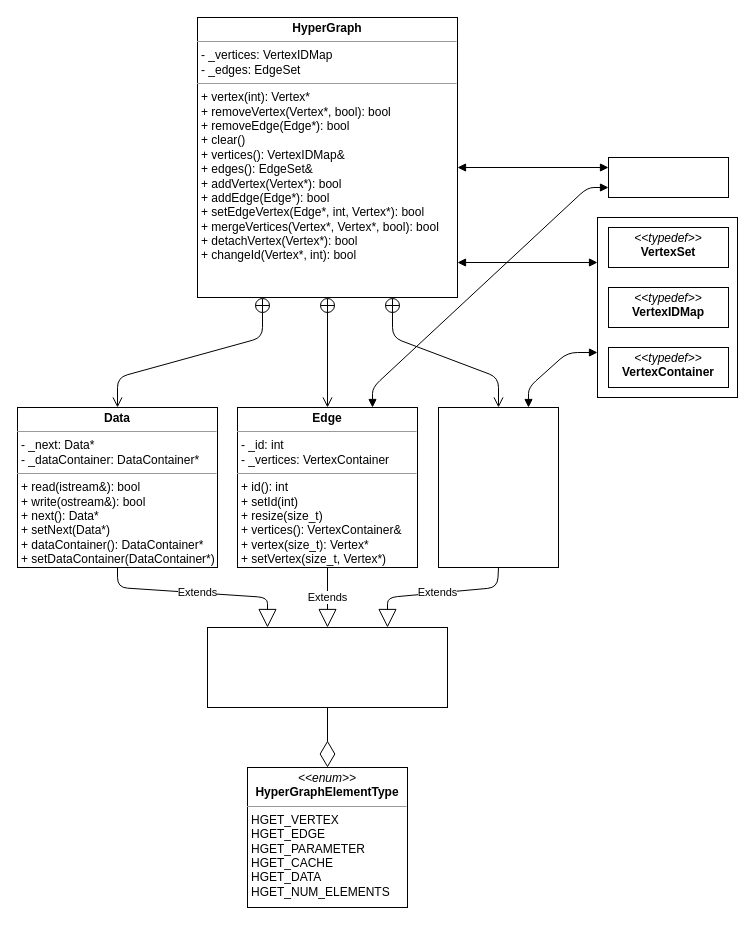
The diagram is 755 pixels wide and 925 high, and some of its shapes have lost their labels. Here are the shapes that lost their labels. From the top down, the centre of each, then its label:
the point at 668,177: <<typedef>> EdgeSet
the point at 498,487: Vertex - _id: int - _edges: EdgeSet + id(): int + setId(int) + edges(): EdgeSet&
the point at 327,667: <<struct>> HyperGraphElement + elementType(): HyperGraphElementType
